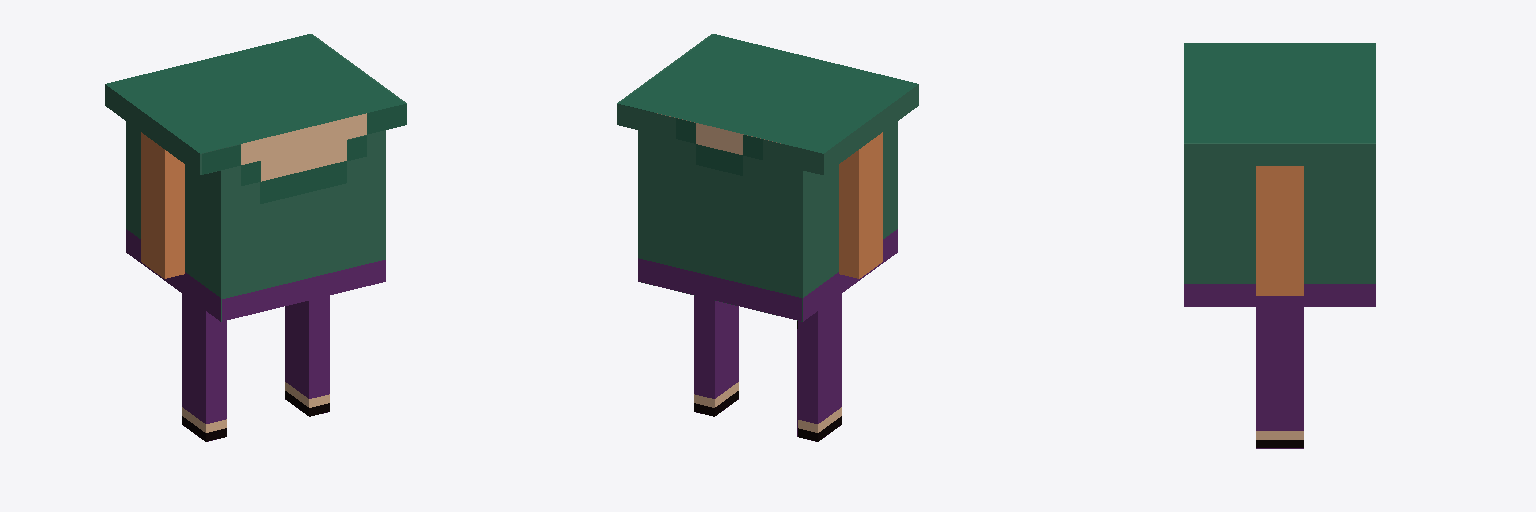
3 renders of one model, left to right at view 1: azimuth 30°, elevation 25°; view 2: azimuth 150°, elevation 25°; view 3: azimuth 270°, elevation 25°, orthographic.
Visible parts, largest first — view 1: body_Plane.001, leg.r_Plane.002, arm.r_Plane.007, leg.l_Plane.005; view 2: body_Plane.001, leg.r_Plane.002, arm.r_Plane.007, leg.l_Plane.005; view 3: body_Plane.001, leg.l_Plane.005, arm.l_Plane.006.
Boxes of the visible parts, x1,y1,x2,y2 form: body_Plane.001: [105, 34, 406, 321]; leg.r_Plane.002: [182, 294, 226, 441]; arm.r_Plane.007: [141, 132, 184, 278]; leg.l_Plane.005: [285, 296, 329, 416]; body_Plane.001: [617, 34, 918, 321]; leg.r_Plane.002: [797, 294, 841, 441]; arm.r_Plane.007: [839, 132, 882, 278]; leg.l_Plane.005: [694, 296, 738, 416]; body_Plane.001: [1184, 43, 1375, 306]; leg.l_Plane.005: [1256, 307, 1303, 448]; arm.l_Plane.006: [1256, 166, 1303, 295].
Size of the model in its own units: 0.0597 by 0.0895 by 0.0477.
Materials: 3 (2 with a texture image).